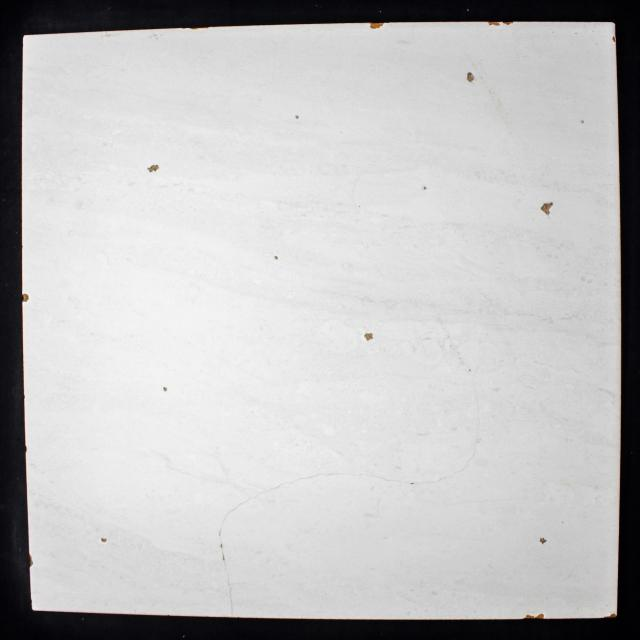edge-chipping: (523, 612, 545, 620), (368, 22, 385, 30), (603, 612, 617, 618), (29, 553, 34, 568), (189, 27, 210, 30), (22, 293, 29, 302), (487, 22, 501, 26), (31, 599, 34, 611), (502, 22, 514, 25), (25, 444, 28, 452), (24, 394, 26, 400)
hole: (540, 201, 554, 216), (146, 164, 160, 172), (364, 332, 374, 342), (466, 72, 475, 82), (539, 536, 548, 545), (100, 537, 108, 543), (273, 255, 279, 261), (295, 114, 300, 120), (163, 387, 168, 392), (580, 119, 585, 124), (423, 186, 427, 190)
line: (459, 445, 477, 472), (224, 568, 233, 617), (292, 473, 337, 482), (358, 473, 401, 482), (260, 482, 290, 494), (473, 385, 481, 428), (221, 508, 237, 527), (429, 474, 454, 484), (238, 494, 258, 506)
